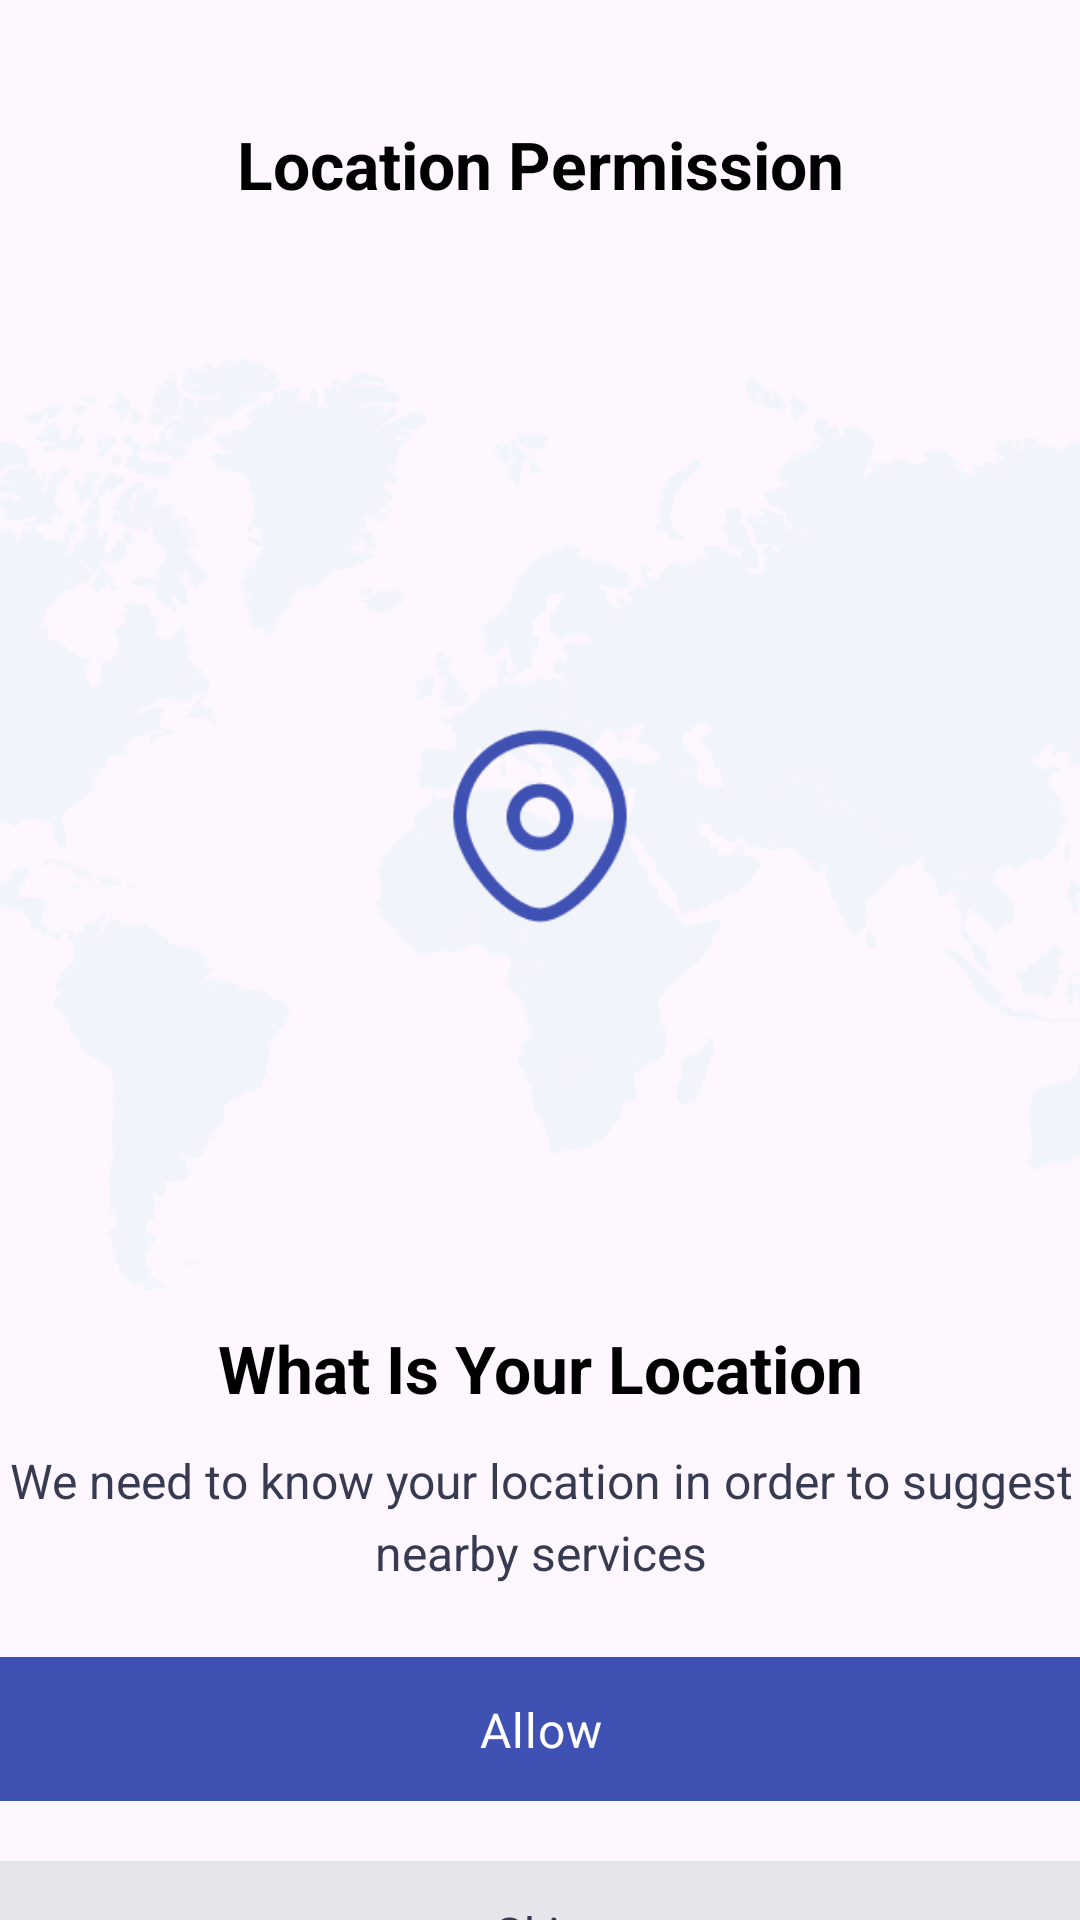

Named icons in this screenshot (1080 × 1920) and their centers, (x=x, y=y):
pointer: (x=540, y=826)
